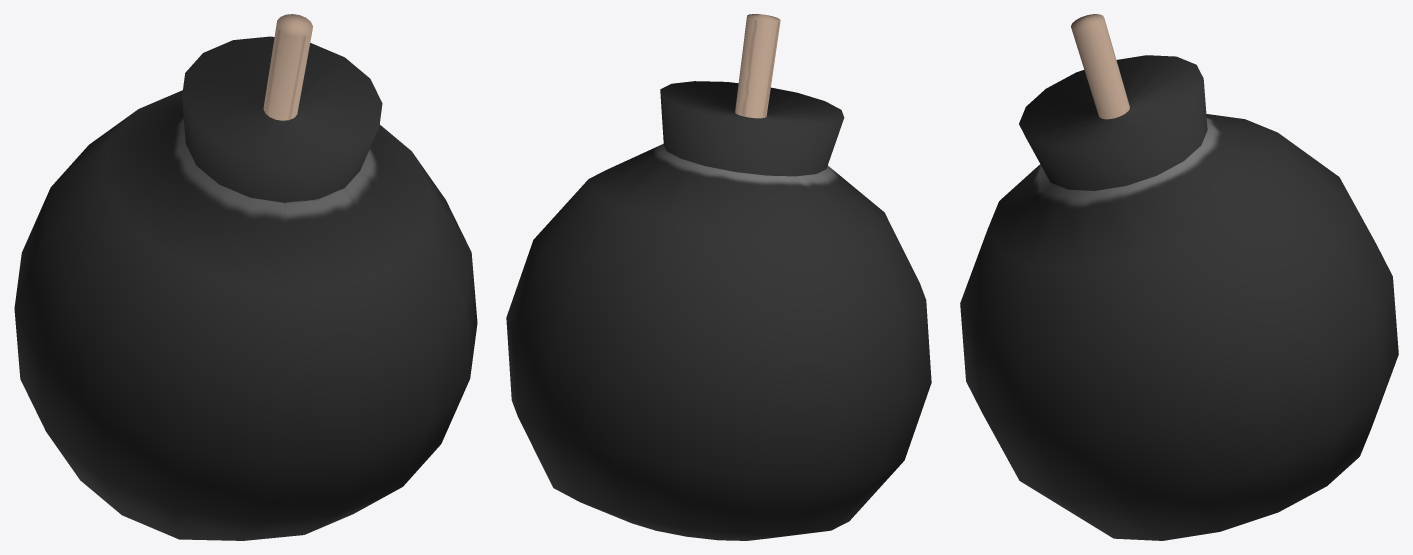
The model's file is Bomba.fbx.
3 views of the same model, side by side, from view 1: azimuth 30°, elevation 25°; view 2: azimuth 150°, elevation 25°; view 3: azimuth 270°, elevation 25° (orthographic). The views are drawn at different scales.
Parts seen in each view (by area): view 1: Esfera; view 2: Esfera; view 3: Esfera.
Part boxes in pixels (left/top/right/bottom): Esfera: left=14, top=14, right=477, bottom=540; Esfera: left=506, top=14, right=931, bottom=540; Esfera: left=960, top=14, right=1398, bottom=540.
Bounding box in the file's own units: 100 × 121 × 99.19.
